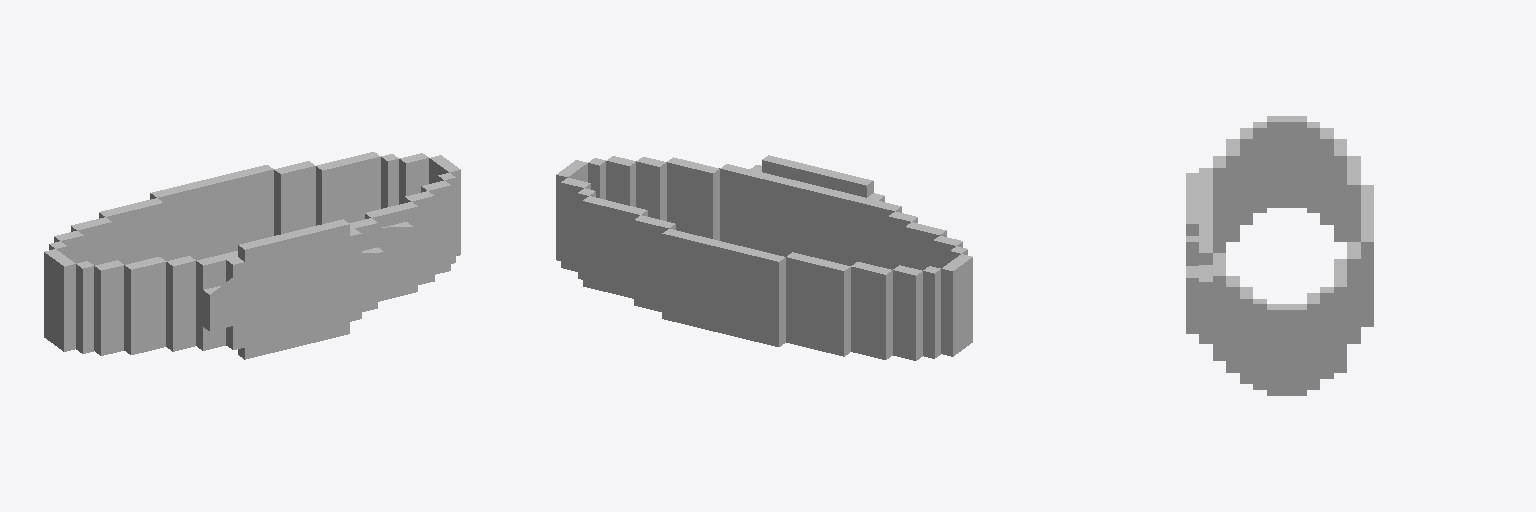
The model's file is Belt_Leather.obj.
The picture shows the model from 3 angles: view 1: azimuth 30°, elevation 25°; view 2: azimuth 150°, elevation 25°; view 3: azimuth 270°, elevation 25°; orthographic projection.
Visible parts, largest first — view 1: Belt_Leather; view 2: Belt_Leather; view 3: Belt_Leather.
Boxes of the visible parts, box(x1,y1,x2,y2) form: Belt_Leather: box(44, 152, 460, 359); Belt_Leather: box(556, 155, 972, 360); Belt_Leather: box(1186, 116, 1373, 395).
Bounding box in the file's own units: 0.34 × 0.09 × 0.14.